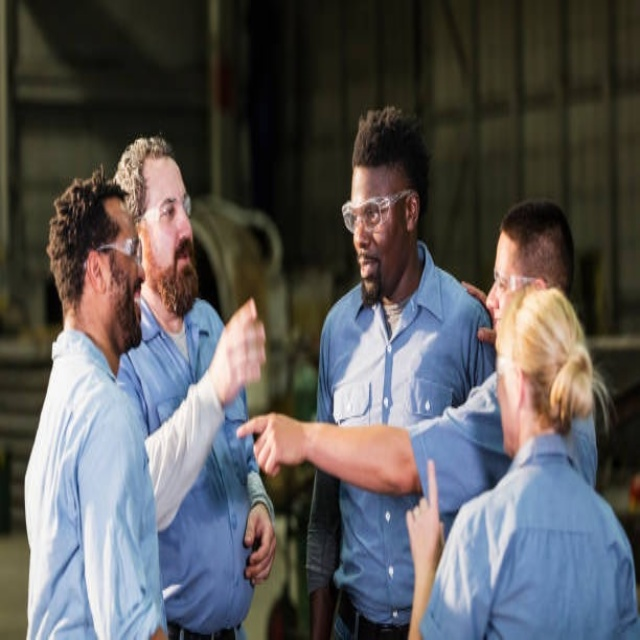Gafas: (342, 191, 414, 234), (139, 195, 192, 234), (87, 237, 142, 267), (494, 270, 542, 294), (495, 354, 520, 381)
Sin_guantes: (403, 454, 445, 600), (216, 296, 268, 403), (236, 410, 304, 476), (242, 500, 276, 586)
Sin_mascara: (166, 235, 195, 280), (117, 283, 146, 326), (353, 243, 375, 274), (489, 305, 506, 340)
